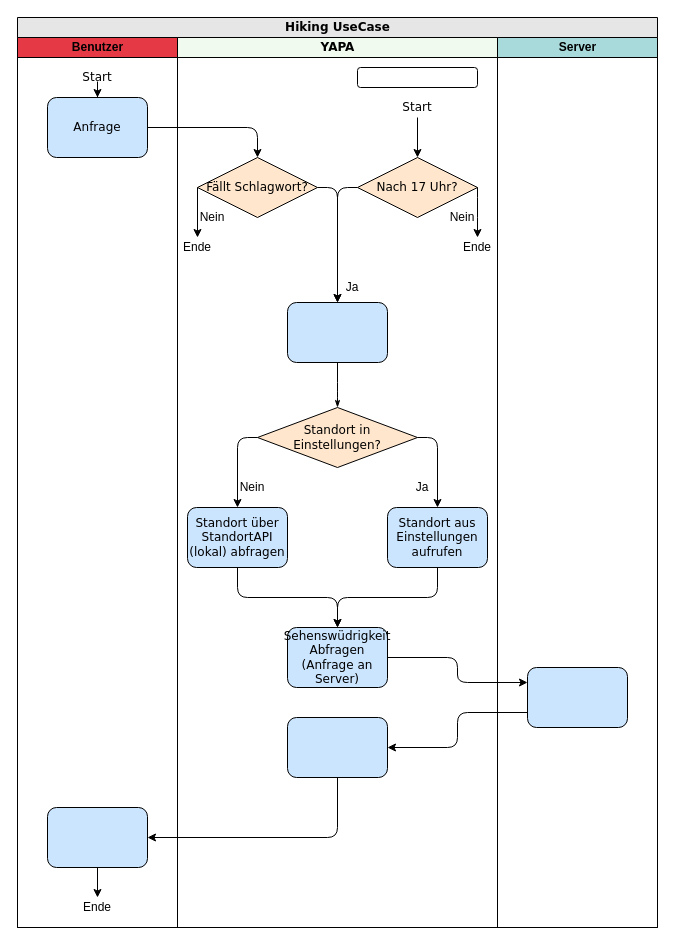
Image size: 675x945. Some labels were removed from this diagram. Here are the shapes that lost their labels. From the top down, the centre of each, then its label:
At pixel 417 77: "Proaktiv".
At pixel 337 332: "Standort wird abgefragt".
At pixel 577 697: "Sehenswüdrigkeit finden".
At pixel 337 747: "Auswahl einer Sehenswürdigkeit und Erstellen einer Antwort".
At pixel 97 837: "Sightseeing :)".
